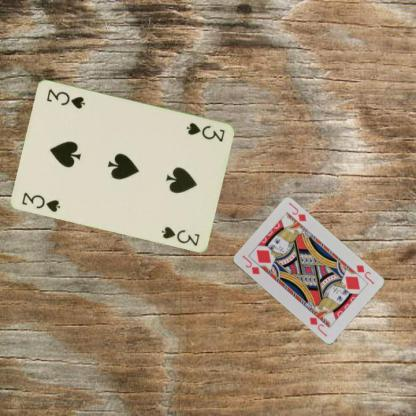3s: (184, 119, 226, 142), (20, 190, 62, 213)
Jd: (353, 262, 375, 286), (239, 252, 261, 275)
